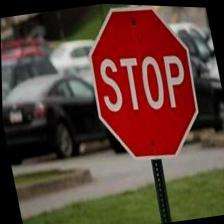Stop: (78, 2, 210, 168)
